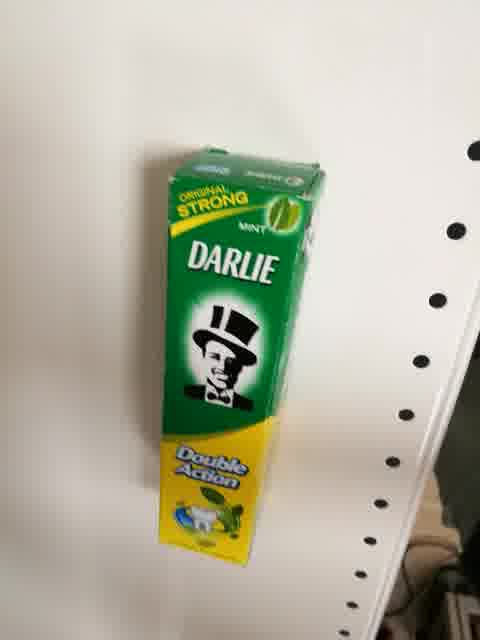toothpaste: (156, 141, 327, 567)
